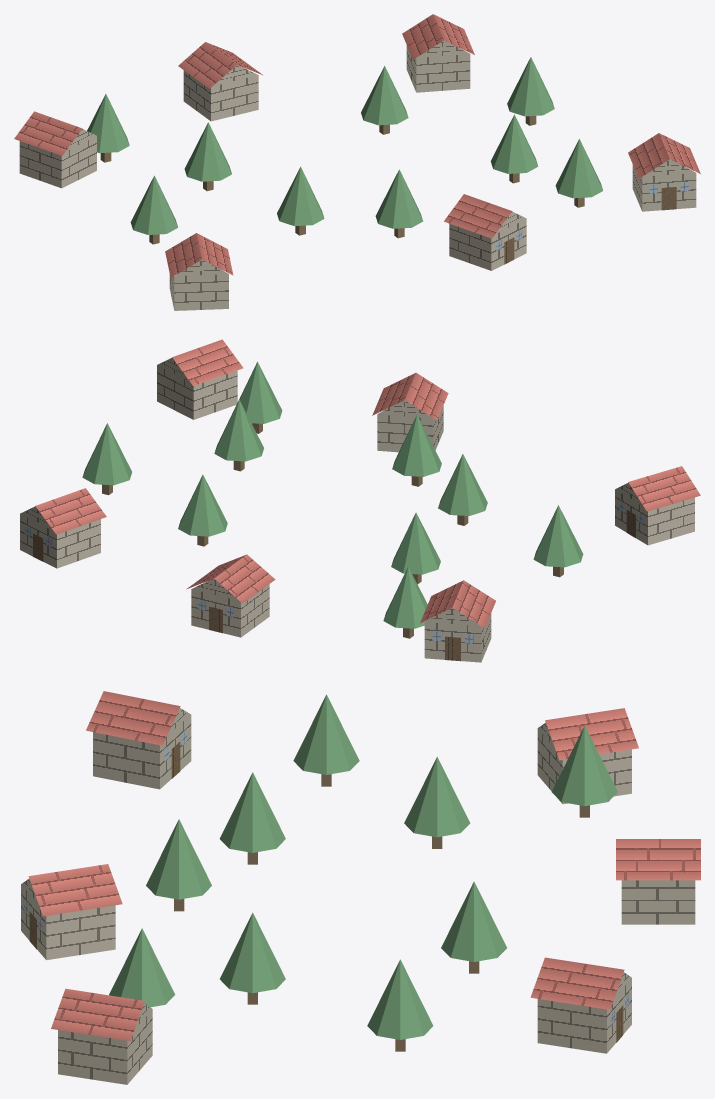
The model's file is village.gltf.
3 views of the same model, one above another, from view 1: azimuth 30°, elevation 25°; view 2: azimuth 150°, elevation 25°; view 3: azimuth 270°, elevation 25° (orthographic). The views are drawn at different scales.
Parts seen in each view (by area): view 1: House1, House4, House0, House5, House2, House3, Tree5, Tree8, Tree4, Tree3, Tree1, Tree2 (+3 smaller); view 2: House1, House2, House5, House3, House0, House4, Tree3, Tree1, Tree2, Tree6, Tree5, Tree4 (+3 smaller); view 3: House3, House5, House4, House2, House1, House0, Tree6, Tree2, Tree7, Tree3, Tree5, Tree4 (+3 smaller).
Part boxes in pixels (<box>): House1: <box>178,42,263,121</box>; House4: <box>444,194,526,270</box>; House0: <box>14,111,96,188</box>; House5: <box>628,133,700,211</box>; House2: <box>402,14,474,92</box>; House3: <box>165,233,233,310</box>; Tree5: <box>507,57,554,125</box>; Tree8: <box>555,139,602,207</box>; Tree4: <box>130,175,177,244</box>; Tree3: <box>490,114,538,183</box>; Tree1: <box>361,66,408,134</box>; Tree2: <box>277,166,324,235</box>; House1: <box>186,554,275,637</box>; House2: <box>20,488,106,568</box>; House5: <box>157,339,243,419</box>; House3: <box>615,466,700,545</box>; House0: <box>420,580,495,662</box>; House4: <box>372,372,448,452</box>; Tree3: <box>214,399,263,471</box>; Tree1: <box>178,474,227,546</box>; Tree2: <box>438,454,487,525</box>; Tree6: <box>392,415,441,486</box>; Tree5: <box>82,423,131,495</box>; Tree4: <box>533,505,583,577</box>; House3: <box>86,691,191,789</box>; House5: <box>51,988,152,1084</box>; House4: <box>21,864,122,960</box>; House2: <box>530,957,631,1053</box>; House1: <box>616,839,700,924</box>; House0: <box>537,708,638,804</box>; Tree6: <box>146,819,211,911</box>; Tree2: <box>219,772,285,864</box>; Tree7: <box>552,725,617,817</box>; Tree3: <box>220,912,285,1004</box>; Tree5: <box>367,959,433,1051</box>; Tree4: <box>293,694,359,786</box>.
Size of what is drawn, in the model's own units: 22 by 2.7 by 18.62.
1 material, 1 textured.
